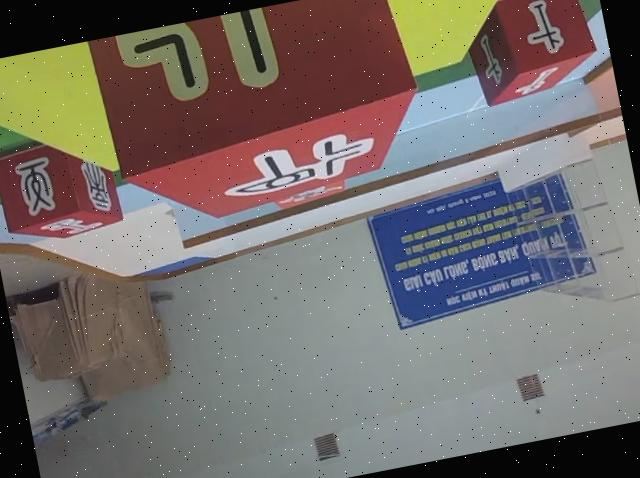R2 Fake: (0, 128, 122, 247)
R2 Real: (87, 0, 432, 237), (459, 0, 602, 106)
